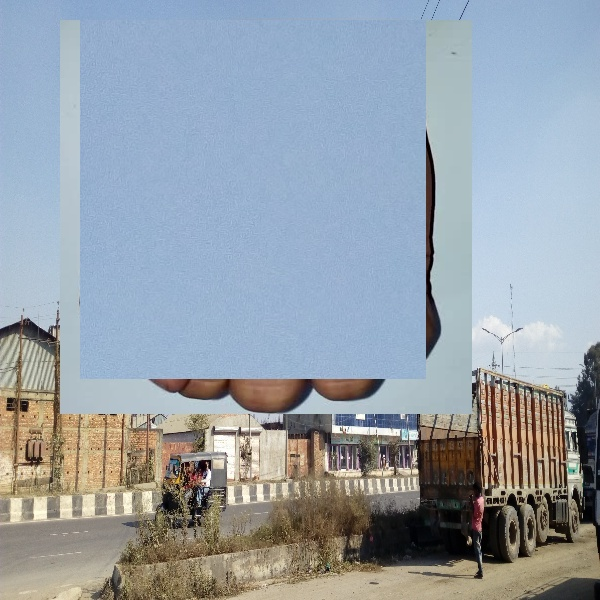A: (80, 20, 426, 379)
